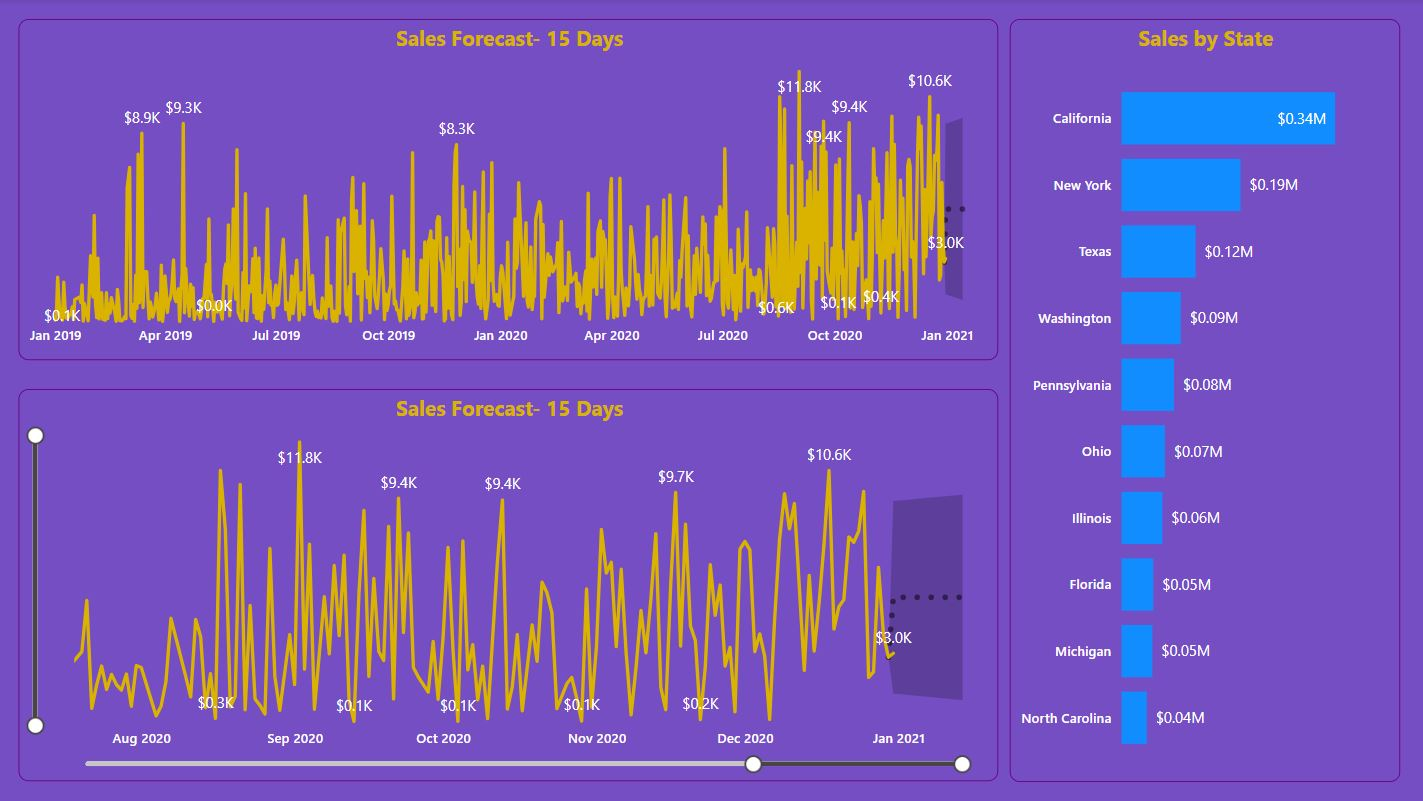

This screenshot's page, from the dashboard's own definition file:
{"tool":"powerbi","page":{"name":"Forecast","canvas":[1280,720],"ordinal":1},"visuals":[{"type":"lineChart","title":"Sales Forecast- 15 Days","fields":{"Y":["Sum(SuperStore_Sales_Dataset.Sales)"],"Category":["SuperStore_Sales_Dataset.Order Date"]},"box":[24.4,17.4,875.6,304.7],"z":0},{"type":"lineChart","title":"Sales Forecast- 15 Days","fields":{"Y":["Sum(SuperStore_Sales_Dataset.Sales)"],"Category":["SuperStore_Sales_Dataset.Order Date"]},"box":[24.4,348.8,875.6,350],"z":1000},{"type":"clusteredBarChart","title":" Sales by State","fields":{"Y":["Sum(SuperStore_Sales_Dataset.Sales)"],"Category":["SuperStore_Sales_Dataset.State"]},"box":[910.5,17.4,348.8,681.4],"z":2000}]}

Visuals, with their boxes in screenshot pixels (x1, y1, x2, y2), scaled from the page's 1280x720 canvas onto the 1423x801 screenshot:
"Sales Forecast- 15 Days" lineChart: (left=27, top=19, right=1001, bottom=358)
"Sales Forecast- 15 Days" lineChart: (left=27, top=388, right=1001, bottom=777)
" Sales by State" clusteredBarChart: (left=1012, top=19, right=1400, bottom=777)
